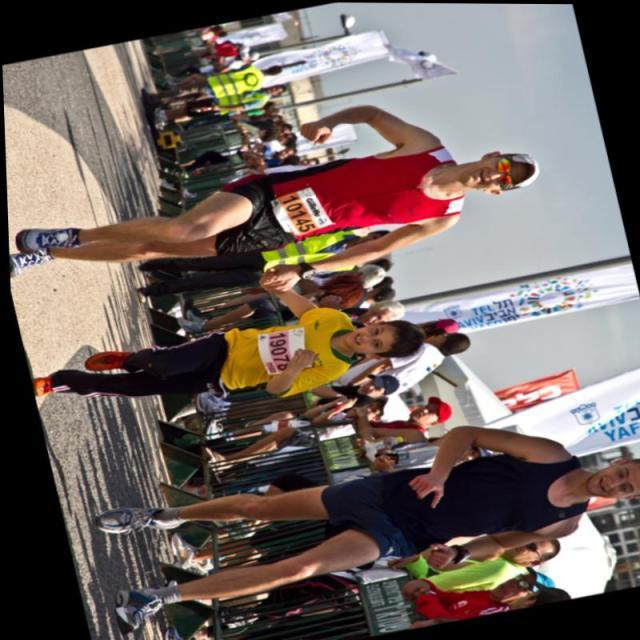dorsal: (262, 176, 339, 249), (247, 318, 315, 380)
